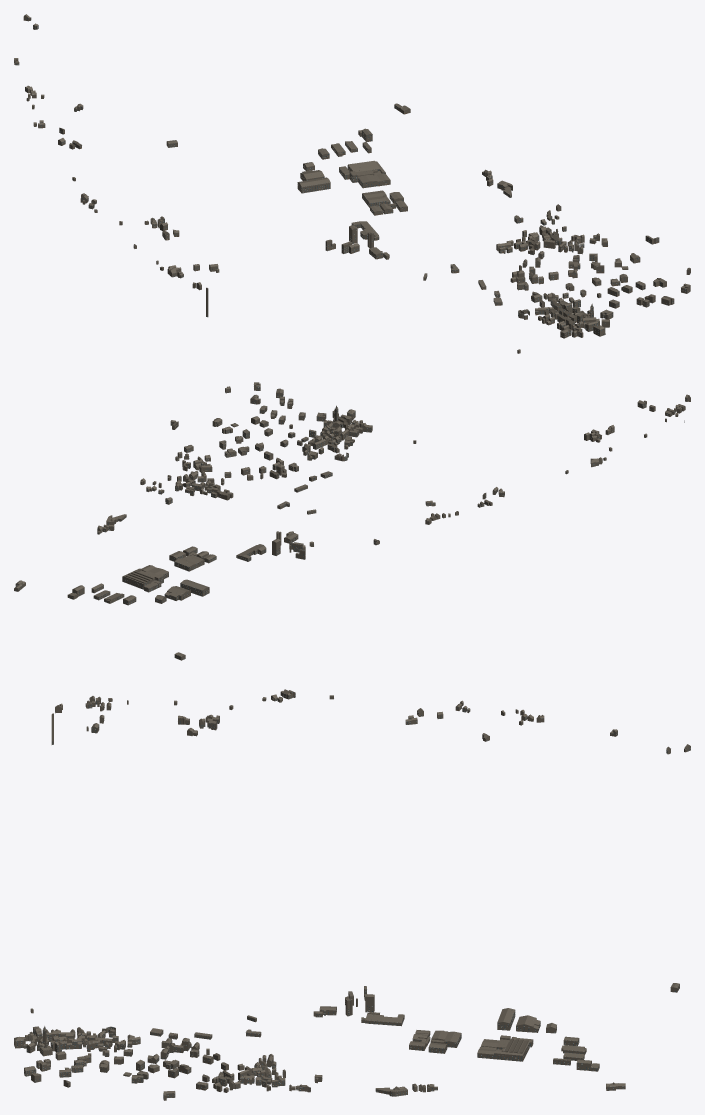
Rendered from arquitetura-detalhada.glb.
The picture shows the model from 3 angles, top to bottom: view 1: azimuth 30°, elevation 25°; view 2: azimuth 150°, elevation 25°; view 3: azimuth 270°, elevation 25°; orthographic projection. The views are drawn at different scales.
Visible parts, largest first — view 1: Edificios reais 2021, Glass / dark reflective details, Window frames / charcoal aluminium details; view 2: Edificios reais 2021, Glass / dark reflective details, Window frames / charcoal aluminium details; view 3: Edificios reais 2021, Glass / dark reflective details, Window frames / charcoal aluminium details.
Boxes of the visible parts, x1,y1,x2,y2 form: Edificios reais 2021: (14,14,690,353); Glass / dark reflective details: (16,18,687,336); Window frames / charcoal aluminium details: (14,18,690,337); Edificios reais 2021: (14,382,690,660); Glass / dark reflective details: (15,386,686,659); Window frames / charcoal aluminium details: (16,388,684,659); Edificios reais 2021: (14,689,690,1100); Glass / dark reflective details: (17,692,690,1097); Window frames / charcoal aluminium details: (17,694,679,1099).
Size of the model in its own units: 952 by 283 by 995.
11 materials, 2 textured.
